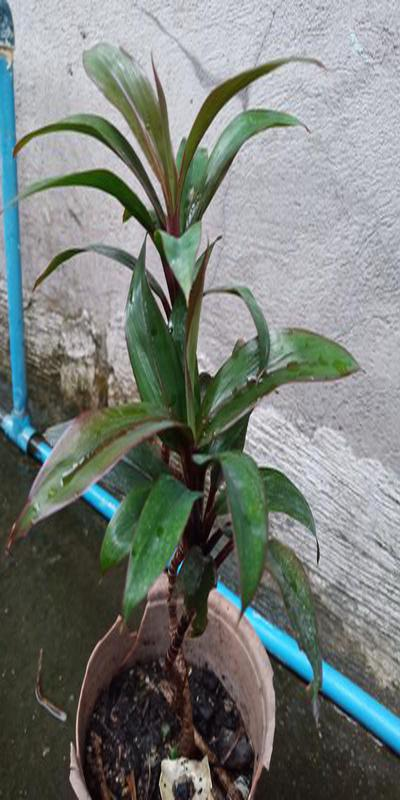Baston de san jose: (68, 62, 332, 764)
